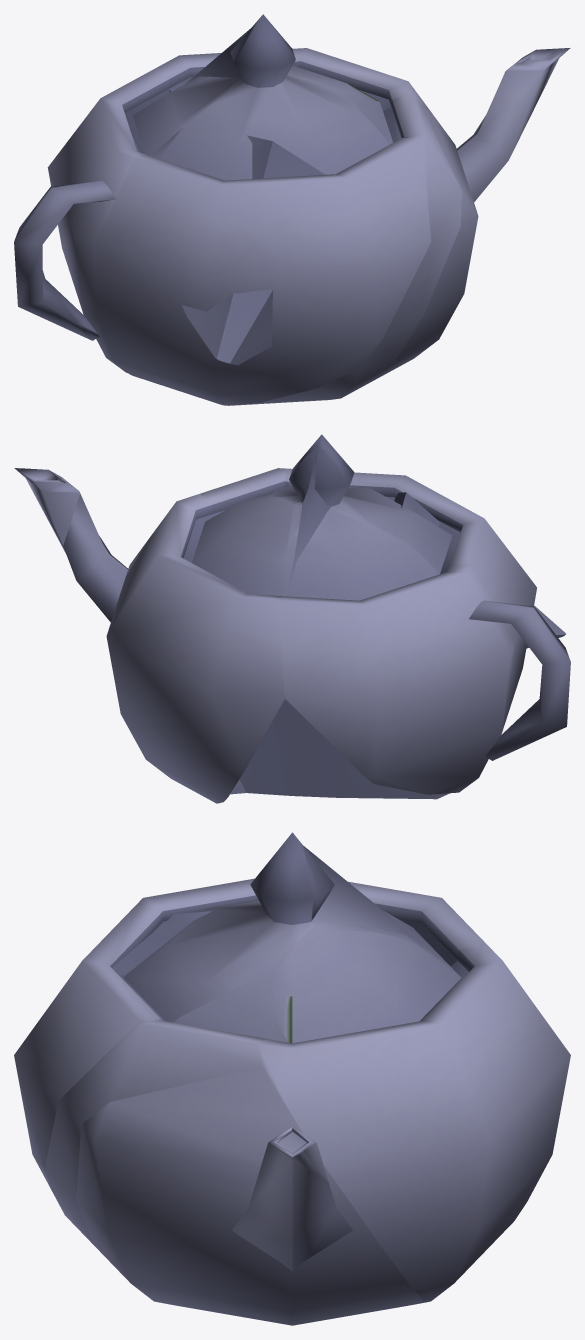
Rendered from M_teapot_fragments.FBX.
3 renders of one model, top to bottom at view 1: azimuth 30°, elevation 25°; view 2: azimuth 150°, elevation 25°; view 3: azimuth 270°, elevation 25°, orthographic. The views are drawn at different scales.
Parts seen in each view (by area): view 1: Teapot001_Part_1, Teapot001_Part_4, Teapot001_Part_3, Teapot001_Part_5, Teapot001_Part_2, Teapot001_Part_6; view 2: Teapot001_Part_4, Teapot001_Part_6, Teapot001_Part_1, Teapot001_Part_5, Teapot001_Part_3, Teapot001_Part_2; view 3: Teapot001_Part_6, Teapot001_Part_3, Teapot001_Part_1, Teapot001_Part_5, Teapot001_Part_4, Teapot001_Part_2.
Boxes of the visible parts, box(x1,y1,x2,y2) form: Teapot001_Part_1: box(77, 14, 431, 405); Teapot001_Part_4: box(14, 25, 253, 372); Teapot001_Part_3: box(371, 48, 570, 381); Teapot001_Part_5: box(228, 88, 461, 405); Teapot001_Part_2: box(182, 135, 324, 365); Teapot001_Part_6: box(155, 48, 554, 114); Teapot001_Part_4: box(278, 447, 570, 794); Teapot001_Part_6: box(23, 474, 294, 803); Teapot001_Part_1: box(269, 434, 536, 725); Teapot001_Part_5: box(200, 468, 449, 799); Teapot001_Part_3: box(14, 468, 246, 794); Teapot001_Part_2: box(394, 492, 565, 648); Teapot001_Part_6: box(258, 928, 570, 1302); Teapot001_Part_3: box(76, 1067, 424, 1325); Teapot001_Part_1: box(14, 832, 314, 1186); Teapot001_Part_5: box(45, 973, 272, 1245); Teapot001_Part_4: box(303, 845, 483, 966); Teapot001_Part_2: box(112, 911, 212, 975).
Size of the model in its own units: 40.57 by 28.01 by 23.77.
